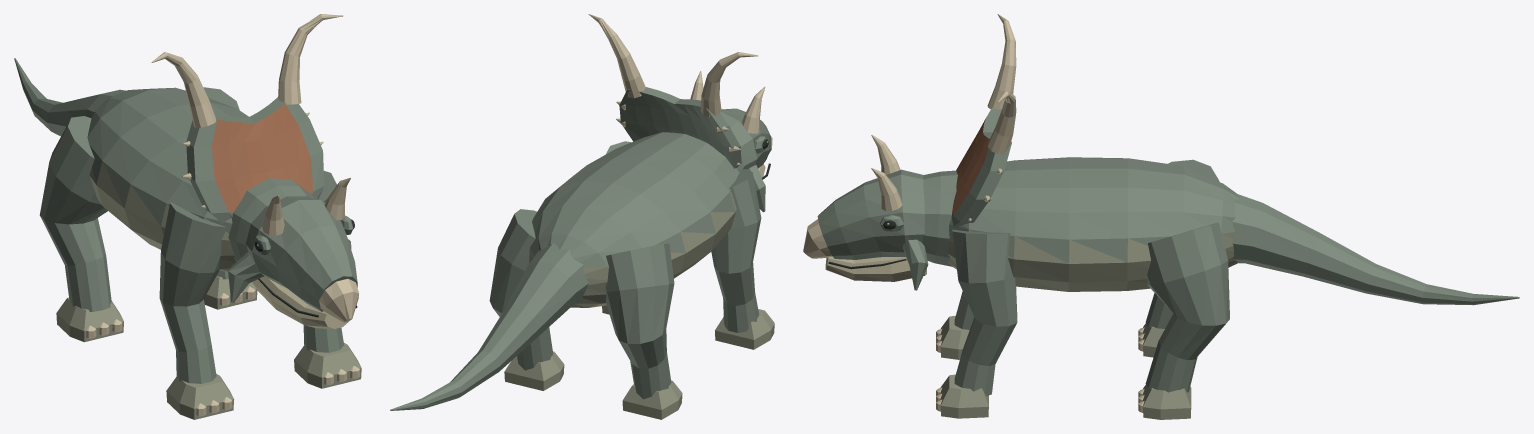
The picture shows the model from 3 angles, left to right: view 1: azimuth 30°, elevation 25°; view 2: azimuth 150°, elevation 25°; view 3: azimuth 270°, elevation 25°; orthographic projection. The views are drawn at different scales.
Parts seen in each view (by area): view 1: Diabloceratops export palette mesh; view 2: Diabloceratops export palette mesh; view 3: Diabloceratops export palette mesh.
Part boxes in pixels (x1,y1,x2,y2): Diabloceratops export palette mesh: (14, 14, 361, 419); Diabloceratops export palette mesh: (390, 14, 774, 419); Diabloceratops export palette mesh: (803, 14, 1519, 419).
Bounding box in the file's own units: 1.32 × 2.25 × 4.53.
